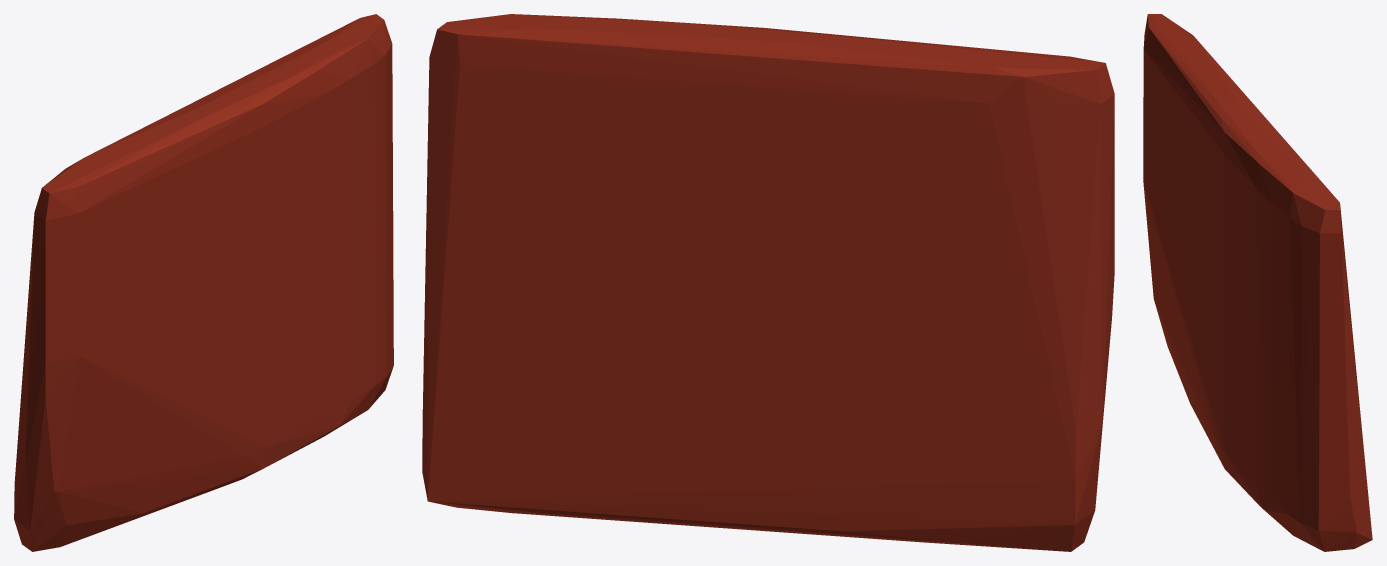
The model's file is right-hip-yaw-0_part_15.obj.
3 views of the same model, side by side, from view 1: azimuth 30°, elevation 25°; view 2: azimuth 150°, elevation 25°; view 3: azimuth 270°, elevation 25° (orthographic). The views are drawn at different scales.
Size of the model in its own units: 0.026 by 0.0214 by 0.0125.
